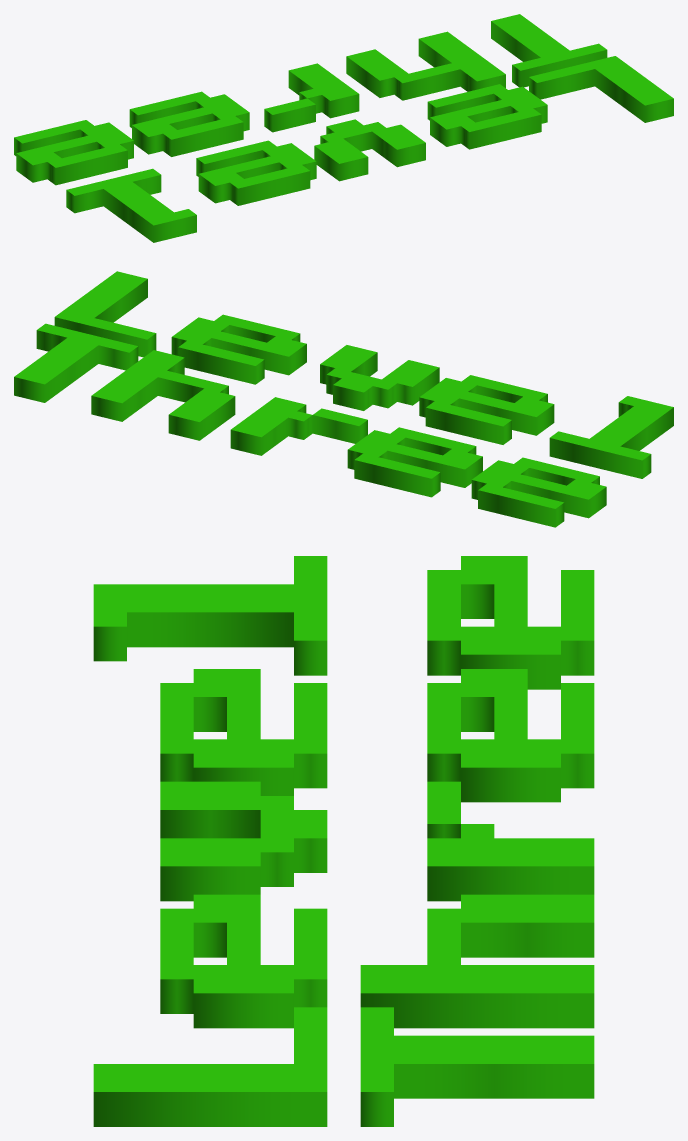
File: level_three.fbx
3 views of the same model, one above another, from view 1: azimuth 30°, elevation 25°; view 2: azimuth 150°, elevation 25°; view 3: azimuth 270°, elevation 25° (orthographic). The views are drawn at different scales.
Parts seen in each view (by area): view 1: Text; view 2: Text; view 3: Text.
Part boxes in pixels (x1,y1,x2,y2): Text: [14, 14, 673, 242]; Text: [14, 271, 673, 527]; Text: [93, 556, 594, 1126].
Size of the model in its own units: 4.75 by 0.144 by 1.88.
